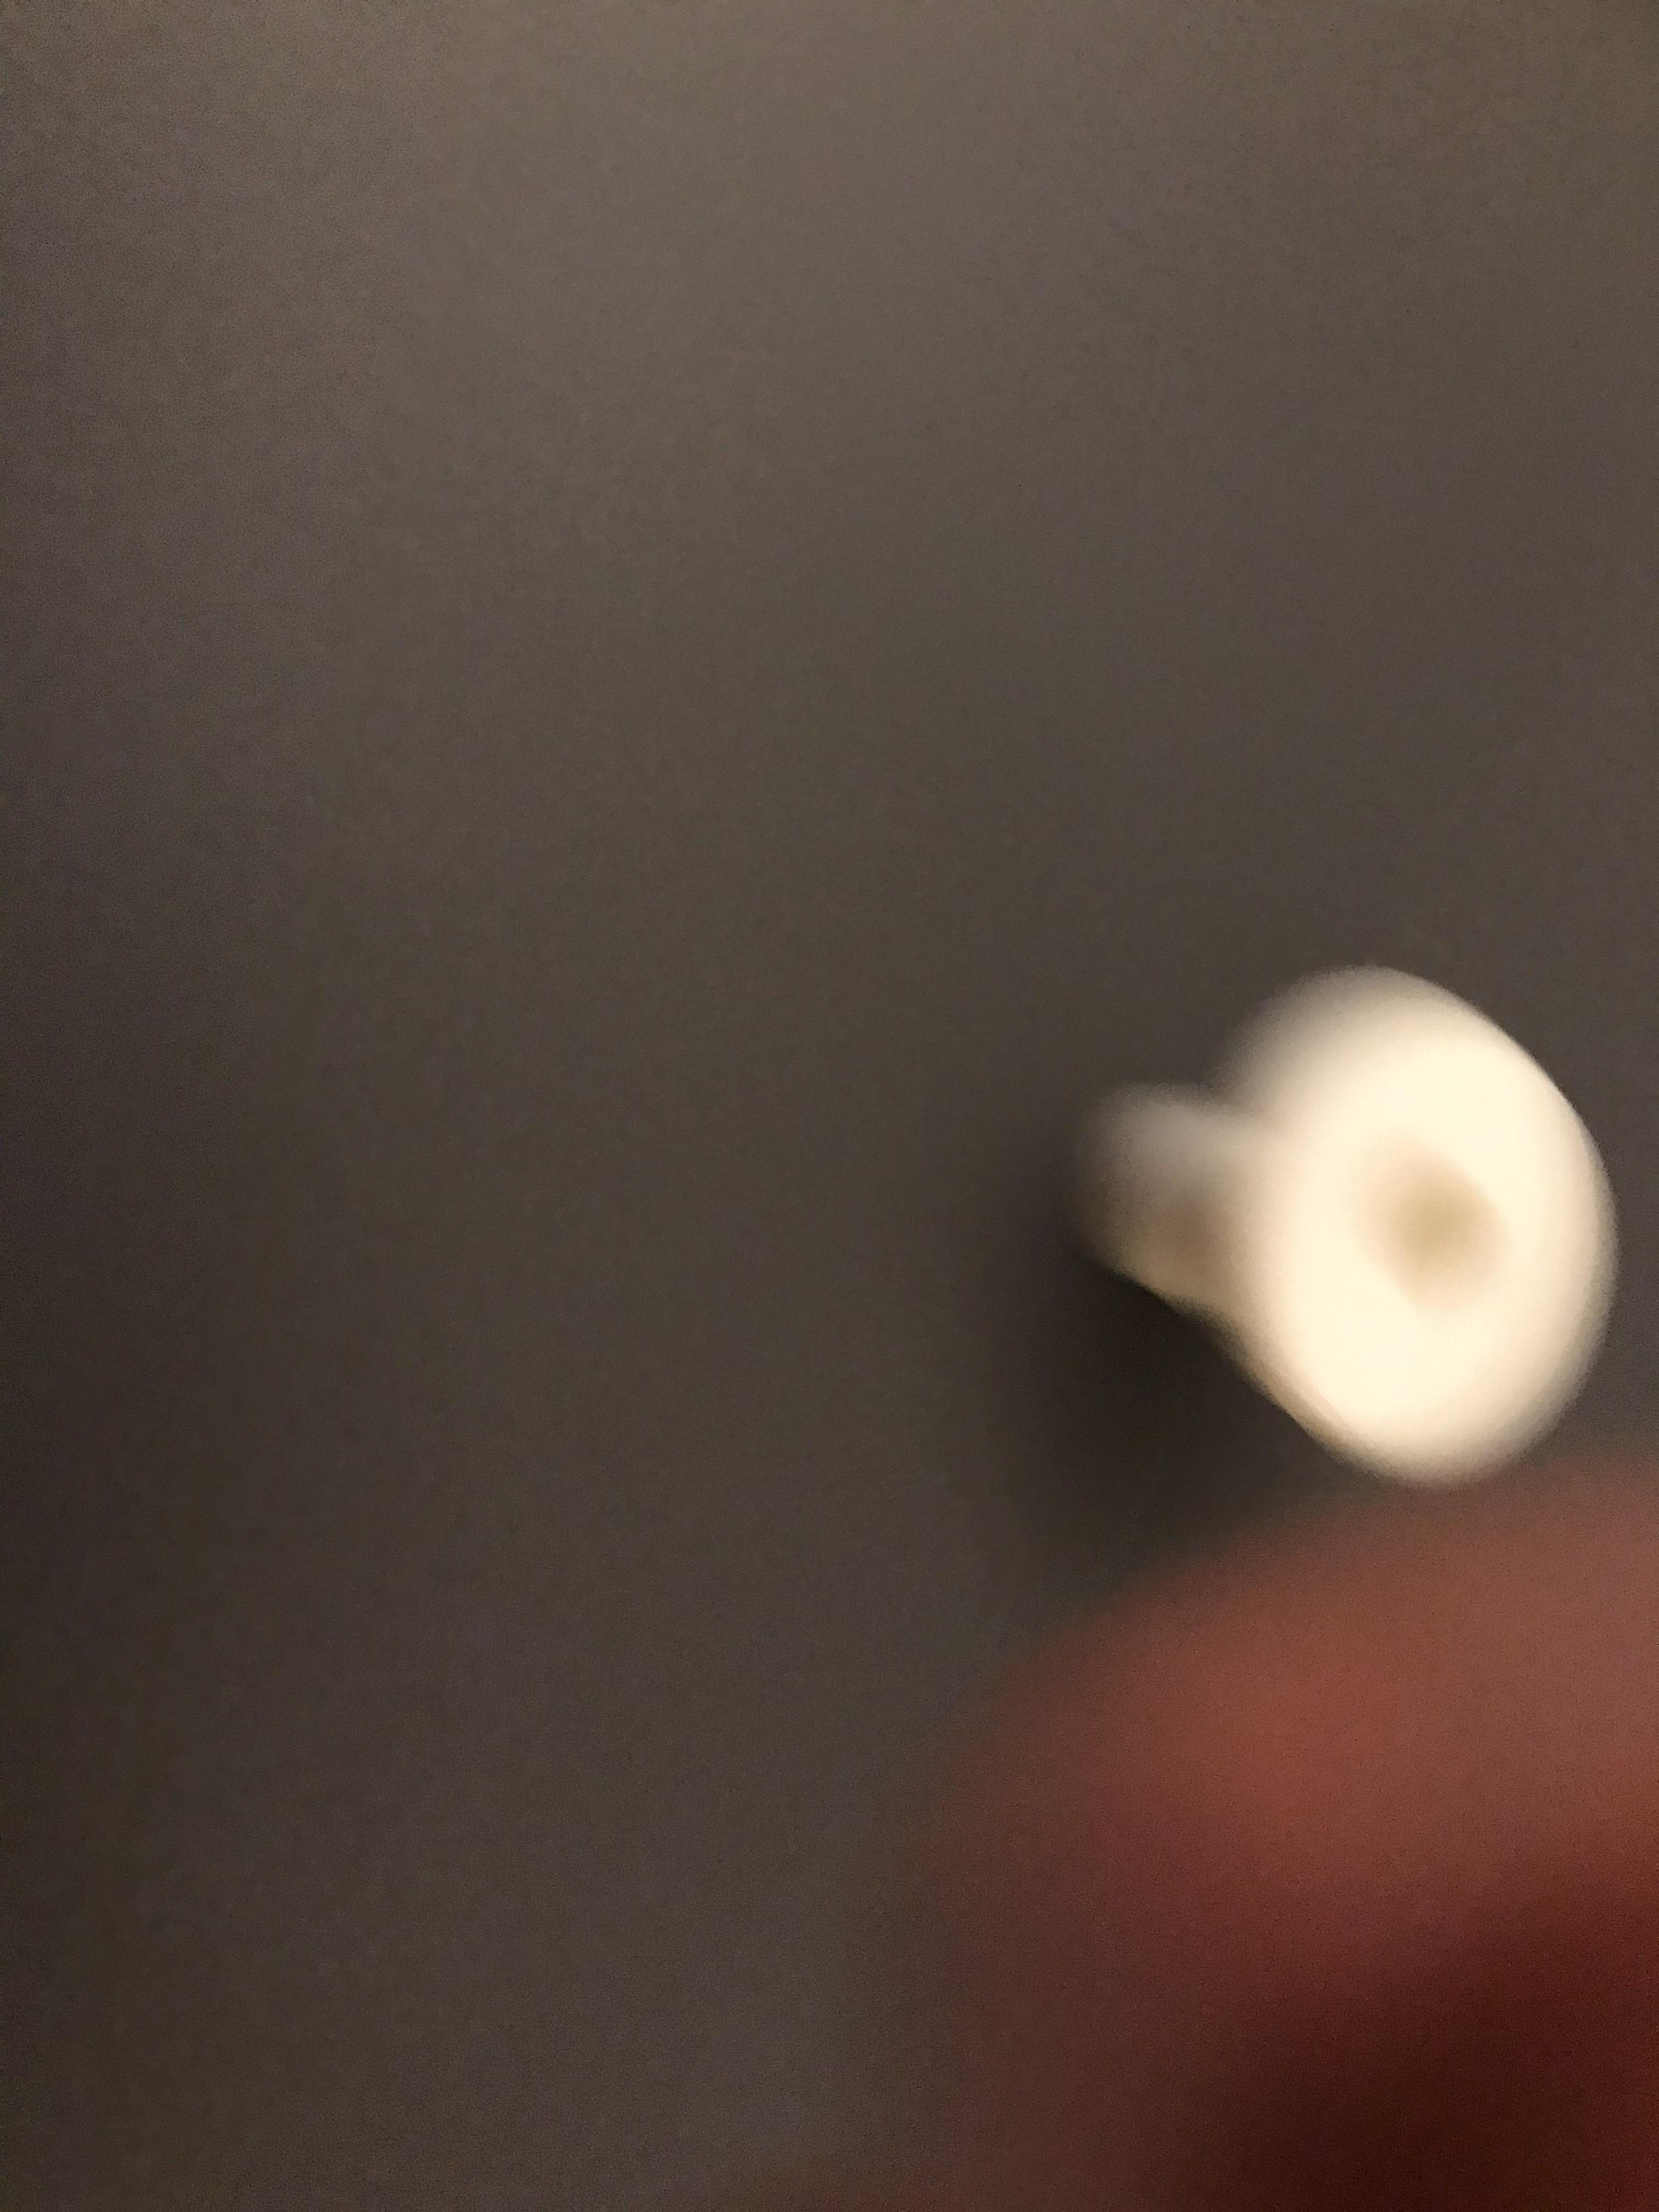White Cone: (1060, 970, 1628, 1505)
